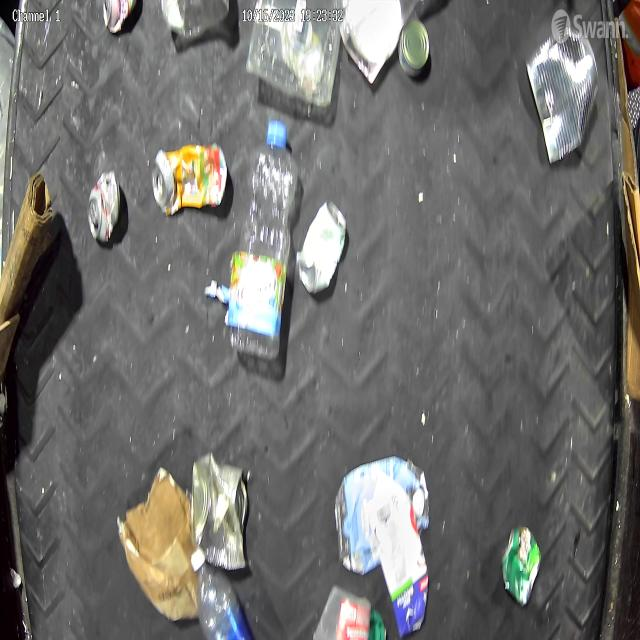can: (523, 26, 601, 166), (189, 449, 251, 573), (151, 140, 229, 218), (296, 197, 349, 297), (500, 524, 542, 608), (86, 168, 122, 245), (398, 17, 431, 78)
plastic_bottle: (226, 116, 298, 360), (190, 547, 254, 640)
